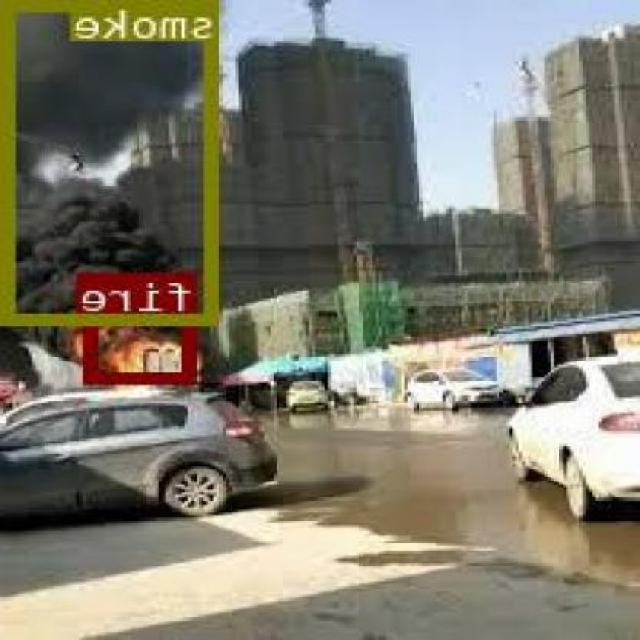Fire: (88, 314, 200, 382)
Smoke: (6, 0, 223, 322)
